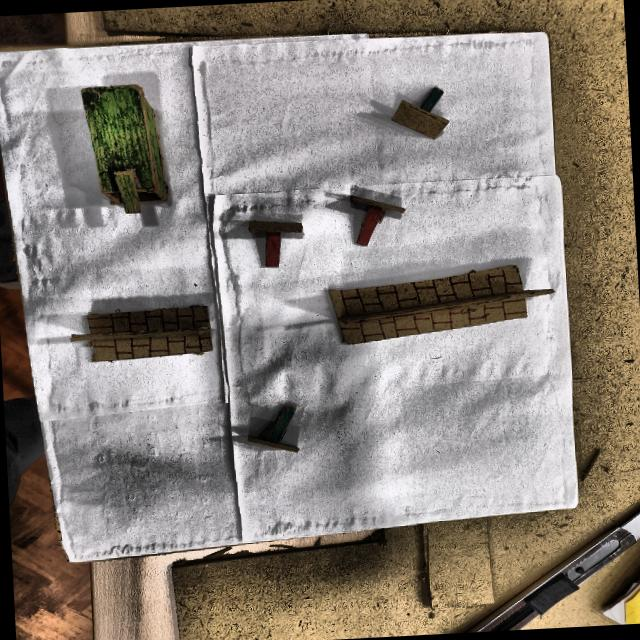Dead soldier -enemy-: (347, 195, 408, 249), (246, 218, 304, 273)
Dead soldier -frd-: (384, 85, 453, 142), (245, 402, 315, 456)
Tank: (79, 84, 172, 216)
Wall: (328, 264, 537, 347), (87, 306, 217, 364)
